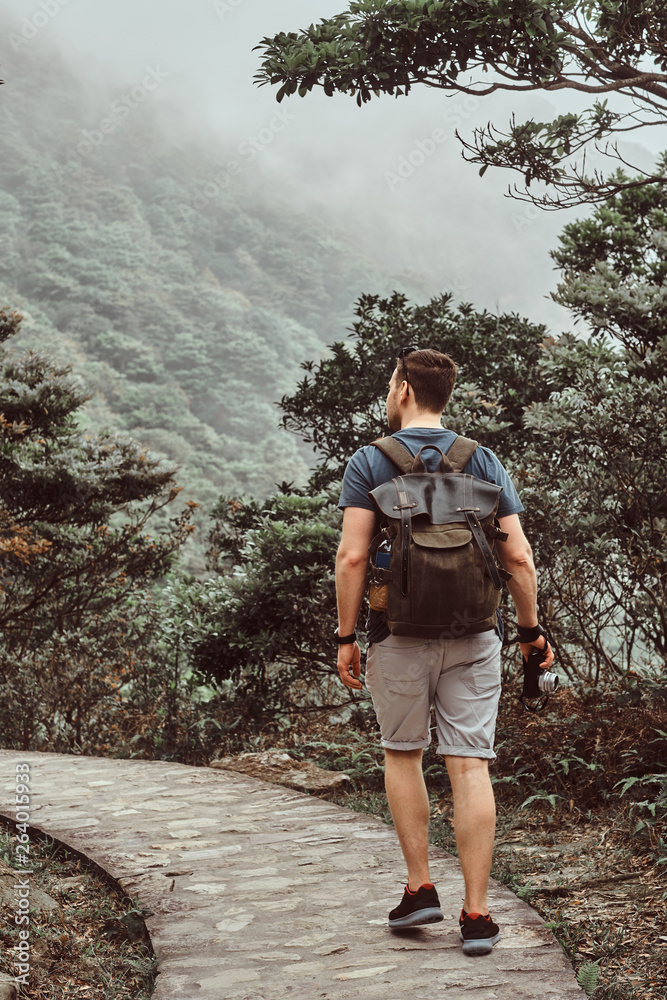person: (325, 349, 553, 958)
